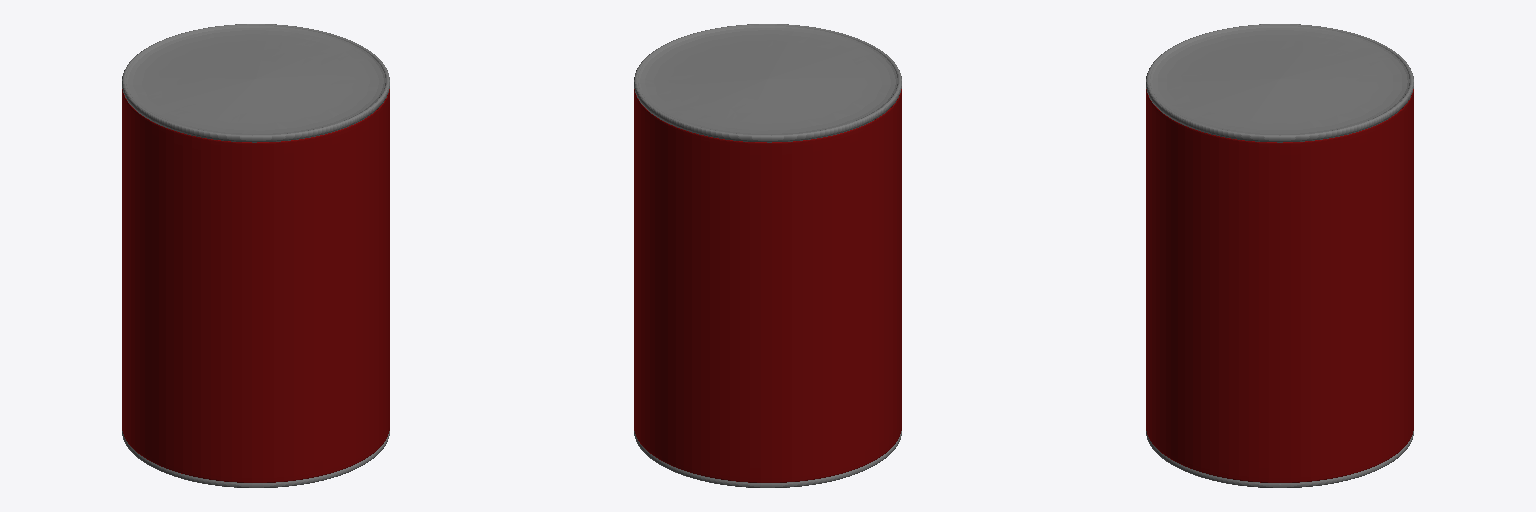
The model's file is tomato_soup.obj.
The picture shows the model from 3 angles: view 1: azimuth 30°, elevation 25°; view 2: azimuth 150°, elevation 25°; view 3: azimuth 270°, elevation 25°; orthographic projection.
Parts seen in each view (by area): view 1: pCylinder4_pCylinder4, pCylinder1_pCylinder1; view 2: pCylinder4_pCylinder4, pCylinder1_pCylinder1; view 3: pCylinder4_pCylinder4, pCylinder1_pCylinder1.
Part boxes in pixels (x1,y1,x2,y2): pCylinder4_pCylinder4: (122, 89, 389, 482); pCylinder1_pCylinder1: (122, 24, 389, 487); pCylinder4_pCylinder4: (634, 89, 901, 482); pCylinder1_pCylinder1: (634, 24, 901, 487); pCylinder4_pCylinder4: (1146, 89, 1413, 482); pCylinder1_pCylinder1: (1146, 24, 1413, 487).
Bounding box in the file's own units: 1.99 × 2.9 × 1.99.